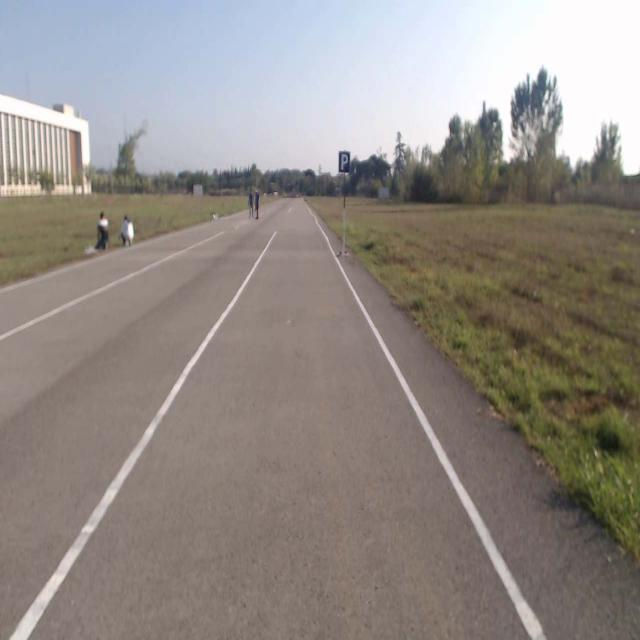park: (338, 151, 349, 173)
